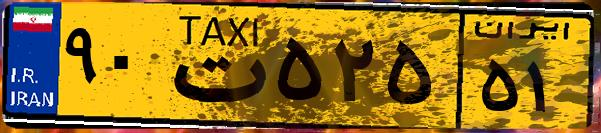0: (110, 28, 158, 98)
1: (525, 38, 570, 115)
2: (330, 28, 385, 110)
5: (270, 28, 330, 110), (385, 28, 445, 110), (475, 38, 525, 113)
9: (57, 26, 110, 100)
ت: (158, 12, 270, 120)
